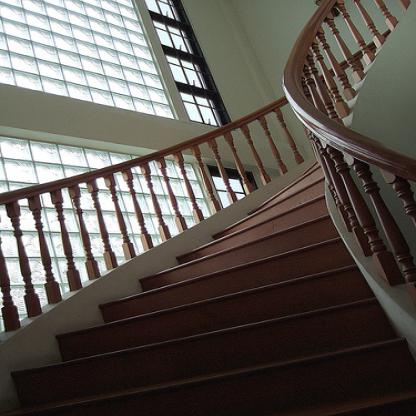stairs: (110, 303, 386, 416)
